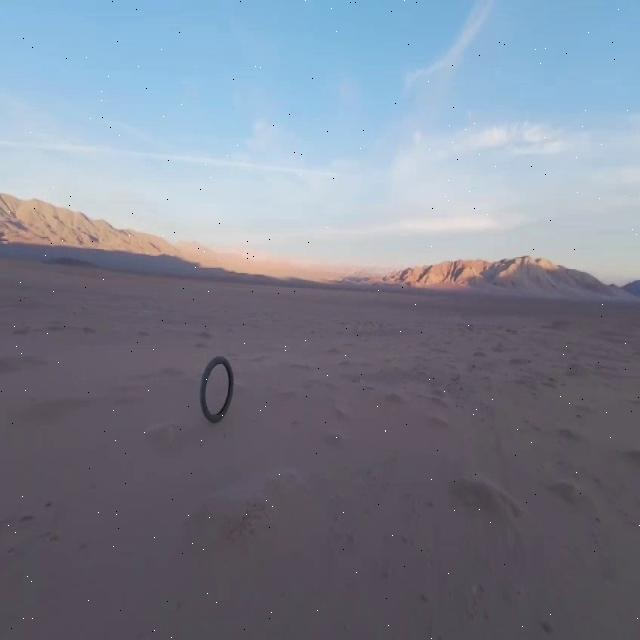Tire: (199, 356, 233, 422)
